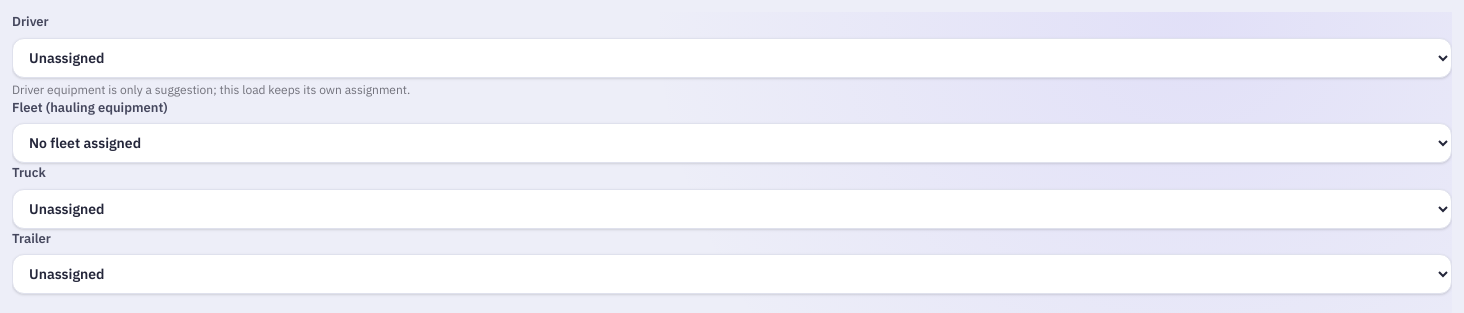
Scenario: LoadEquipmentFields › suggests uniquely matched equipment from a newly selected driver
Select "Driver A" in the dropdown labelled "Driver" at (732, 58), box [12,38,1452,78]
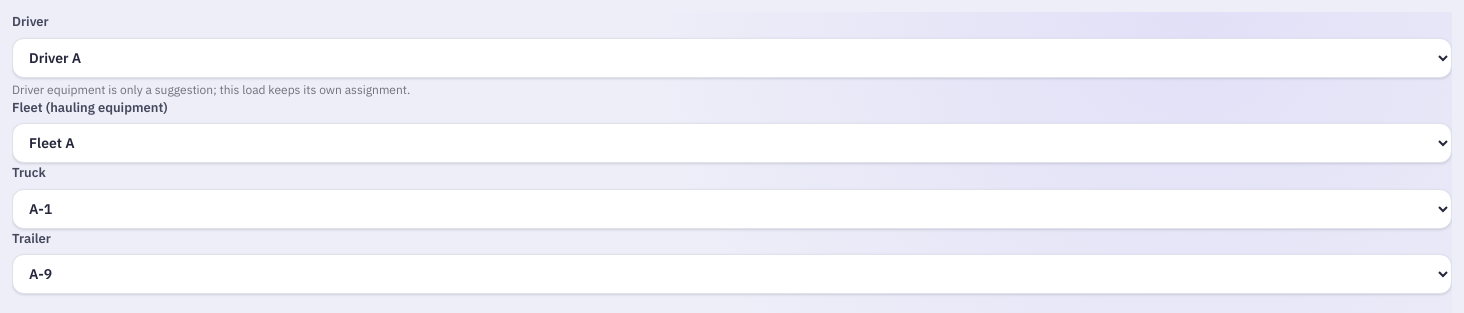
Expected: the dropdown labelled "Fleet (hauling equipment)" shows "Fleet A", [12,123,1452,163]
Expected: the dropdown labelled "Truck" shows "A-1", [12,188,1452,228]
Expected: the dropdown labelled "Trailer" shows "A-9", [12,254,1452,294]
